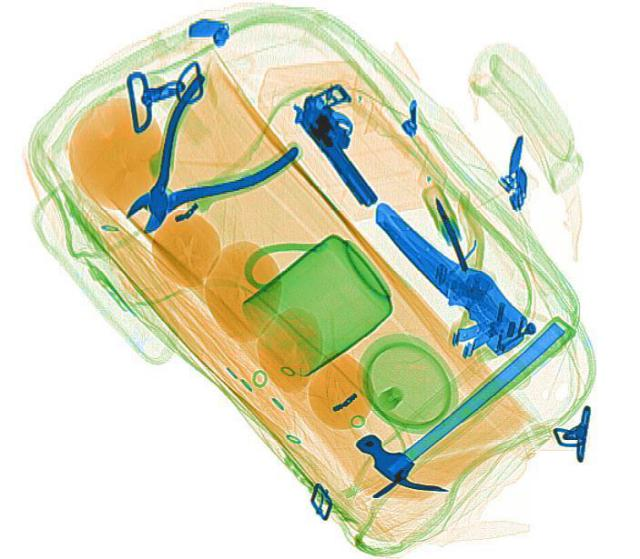Gun: (283, 76, 415, 207)
Pliers: (75, 74, 301, 258)
